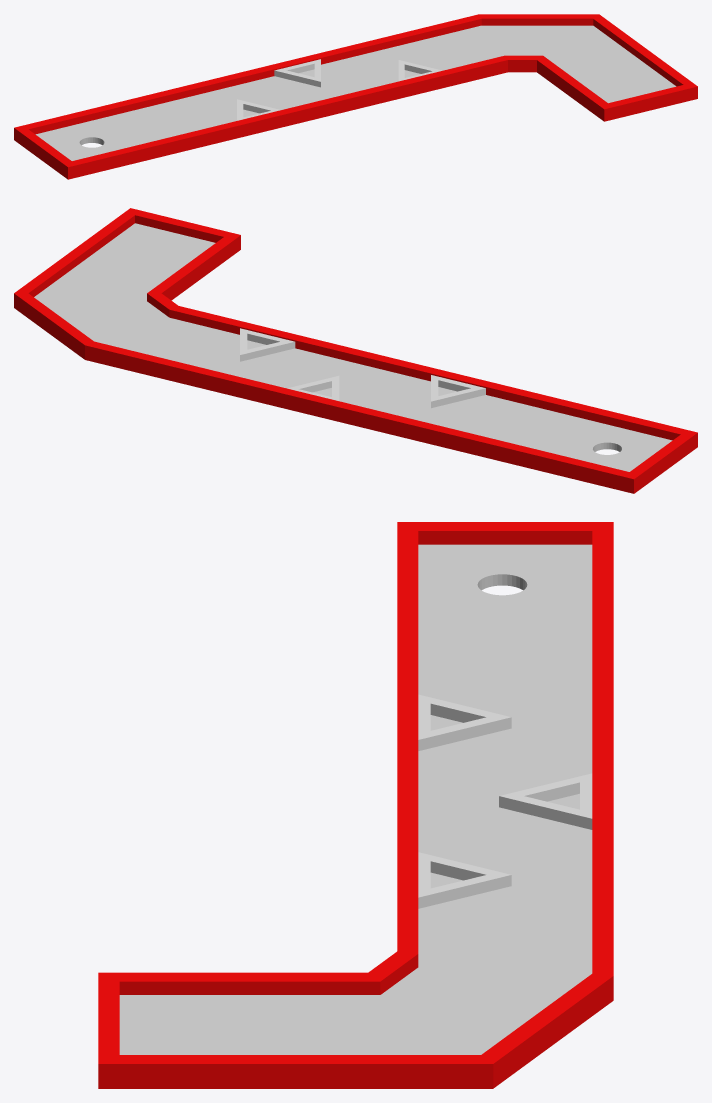
File: BahnM9.fbx
The picture shows the model from 3 angles, top to bottom: view 1: azimuth 30°, elevation 25°; view 2: azimuth 150°, elevation 25°; view 3: azimuth 270°, elevation 25°; orthographic projection. The views are drawn at different scales.
Parts seen in each view (by area): view 1: Track9; view 2: Track9; view 3: Track9.
Part boxes in pixels (box(x1,y1,x2,y2)): Track9: box(14, 14, 697, 179); Track9: box(14, 208, 697, 493); Track9: box(98, 522, 613, 1088).
Size of the model in its own units: 516 by 11 by 207.
